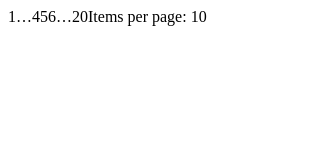
Test: Pagination changePageSize 页码重算（对齐 Semi） › 默认按当前页首条数据位置重算 currentPage
The width and height of the screenshot is (320, 160).
Click the dropdown labelled "Items per page: 10".
click(147, 17)  # box [88,8,207,26]
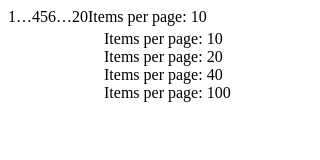
Now the 2nd list is shown, box [88,30,231,102]
Now the option "Items per page: 20" is shown
Click the option "Items per page: 20".
click(163, 56)  # box [104,48,223,65]
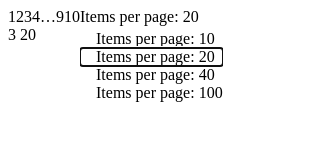
Now the text with test id "last-size" reads "20", box [20,26,36,43]
Now the text with test id "last-page" reads "3", box [8,26,16,43]
